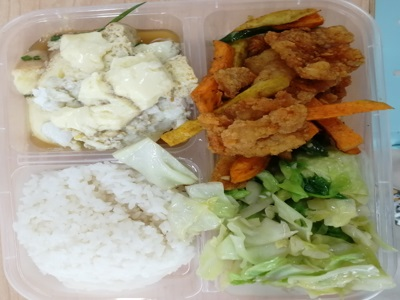cct: (224, 171, 376, 288)
jdg: (26, 37, 173, 142)
r5: (220, 23, 363, 149)
rice: (25, 174, 185, 278)
